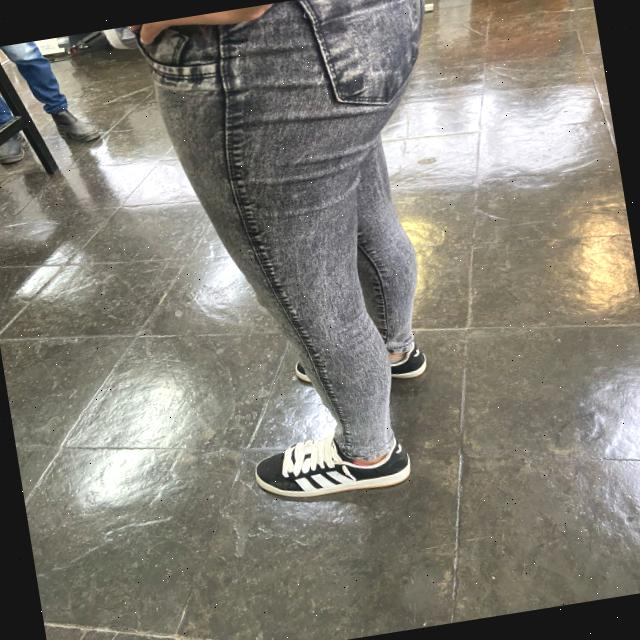SEM BOTA: (239, 430, 425, 505), (287, 341, 444, 385)
